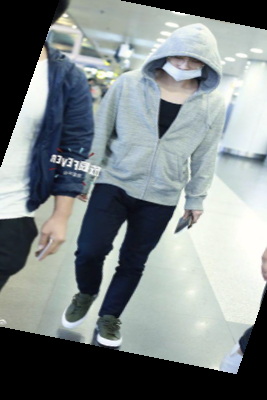mask_weared_incorrect: (147, 26, 224, 91)
